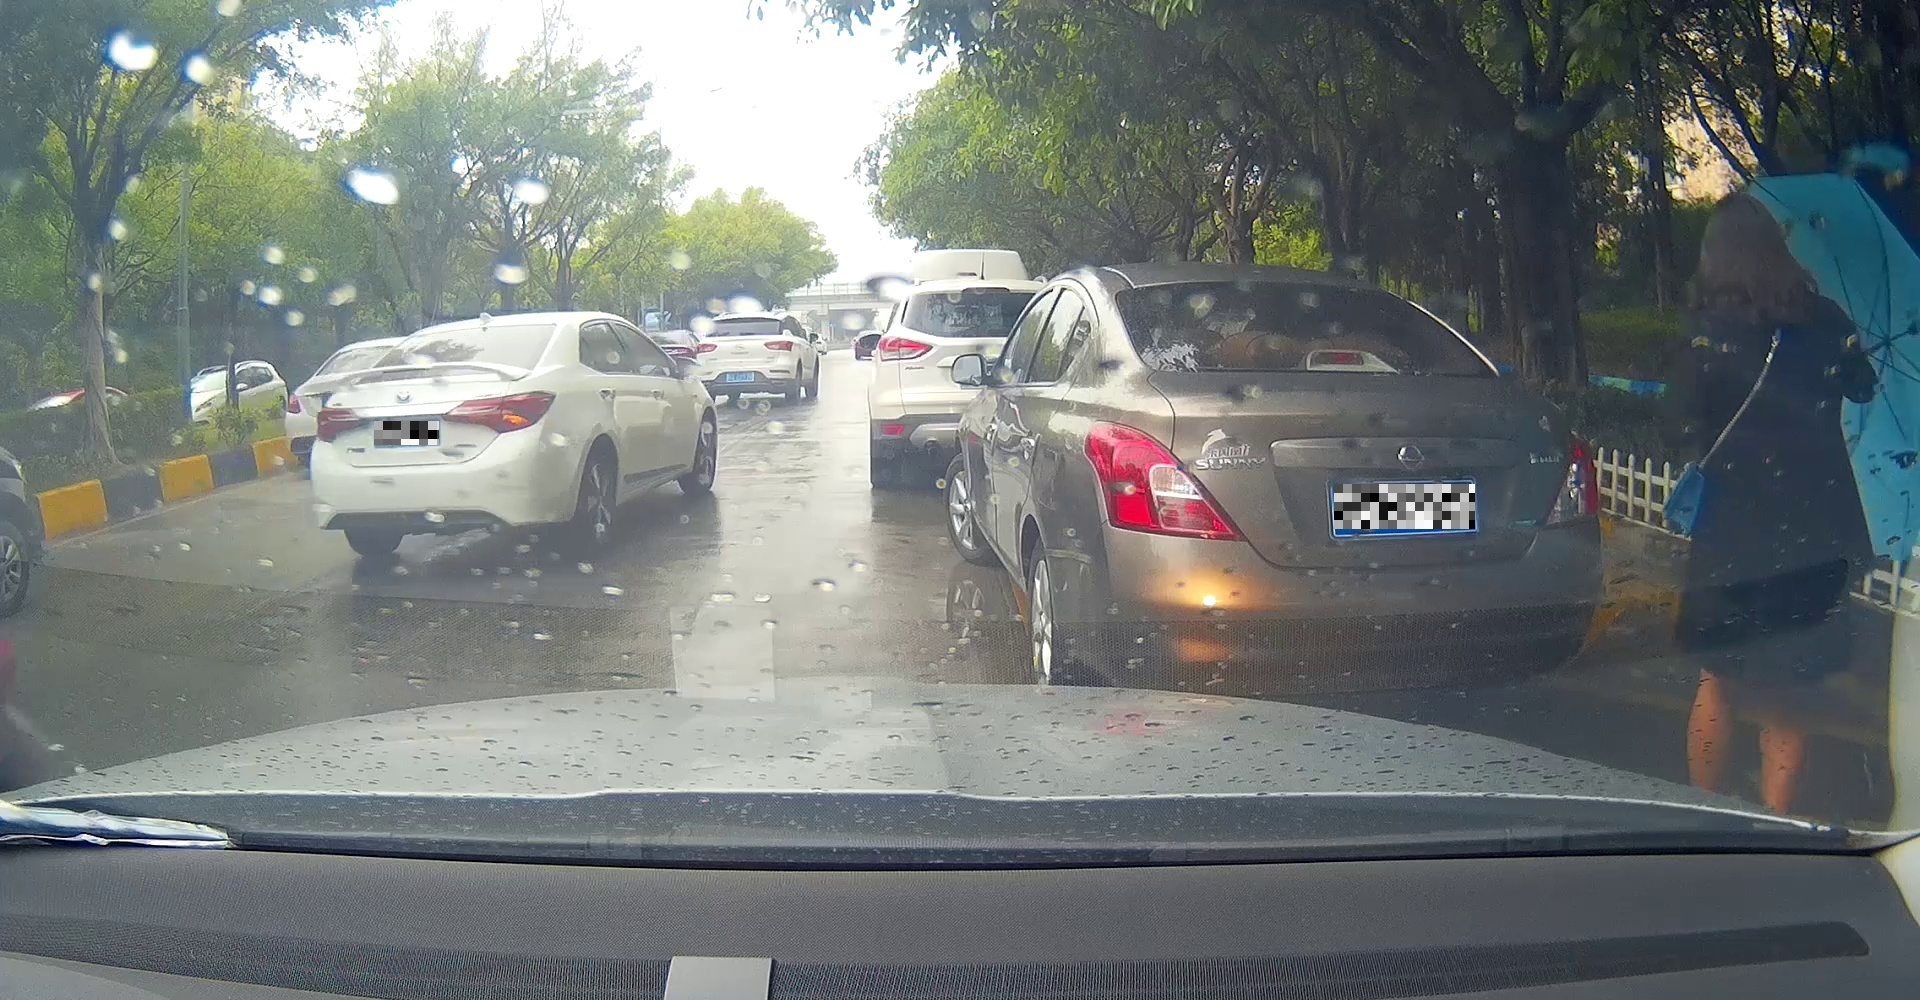L_light: (1082, 419, 1244, 541), (314, 404, 372, 444), (695, 343, 717, 354)
R_light: (1543, 433, 1600, 527), (439, 390, 556, 434), (764, 339, 792, 352)
T_light: (1316, 352, 1365, 364), (463, 327, 503, 336), (737, 319, 752, 321)
day-no: (1077, 274, 1603, 717), (307, 317, 566, 558), (695, 313, 795, 405)
plate_1: (375, 421, 439, 445)
plate_2: (1335, 484, 1476, 529)
